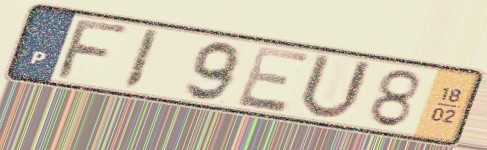8: (367, 68, 423, 129)
9: (185, 39, 244, 103)
E: (234, 44, 315, 116)
F: (51, 18, 135, 82)
I: (118, 26, 163, 93)
U: (294, 51, 376, 123)
